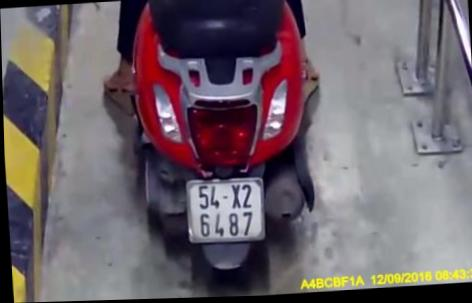LP: (183, 174, 267, 248)
